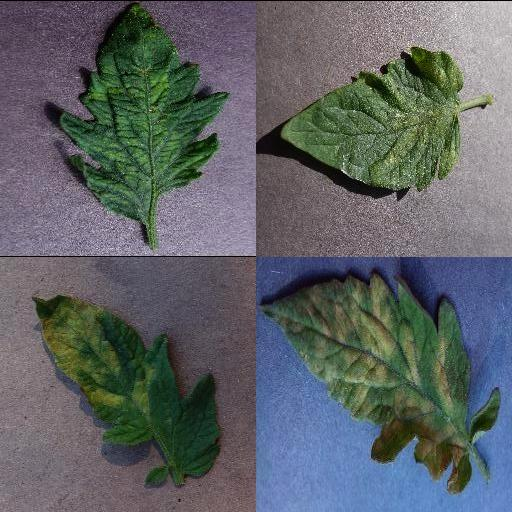Leaf Mold: (256, 268, 470, 493), (30, 292, 220, 475)
Mosaic Virus: (58, 2, 231, 224)
Spider Mites: (279, 45, 465, 191)
